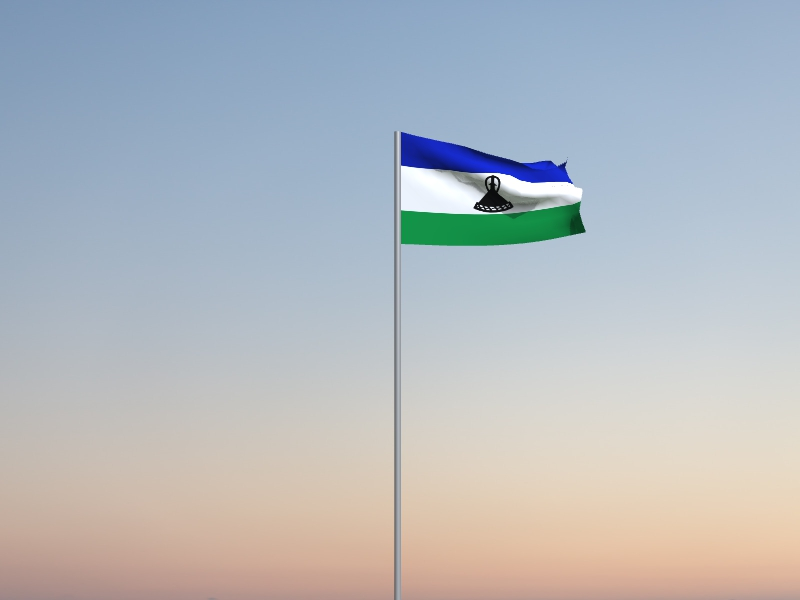ls: (402, 133, 588, 248)
